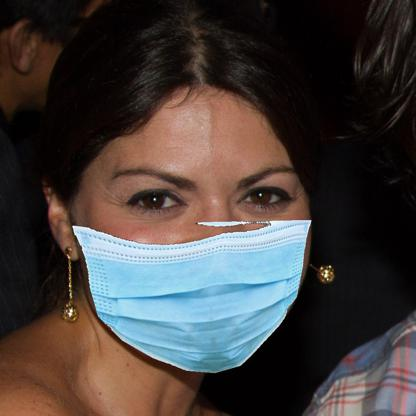mask: (69, 215, 315, 378)
